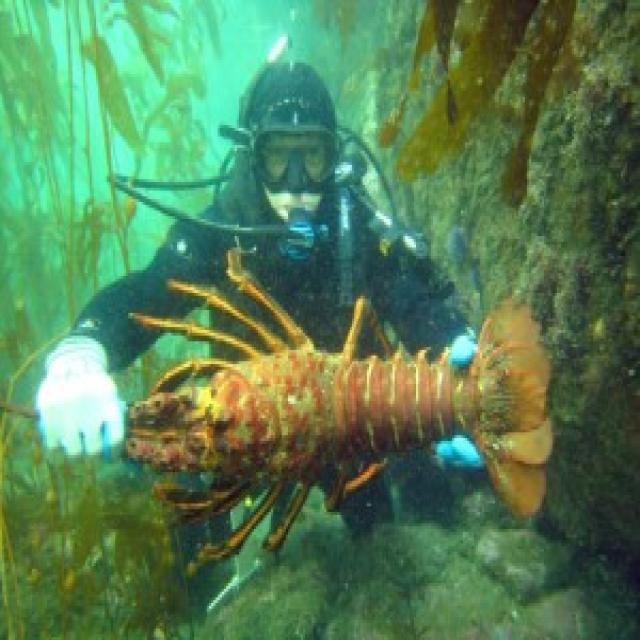lobsters: (136, 267, 593, 590)
